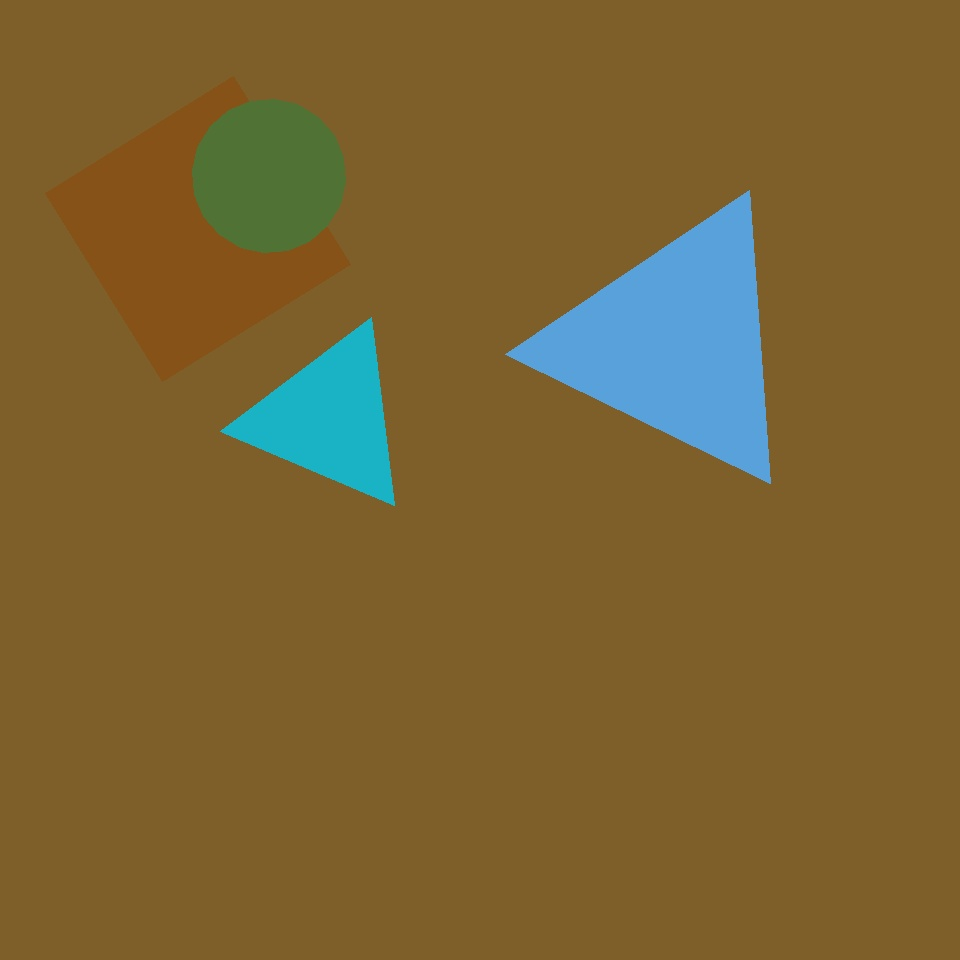circle: (542, 196, 808, 490), (242, 324, 416, 512), (594, 323, 708, 453)
square: (168, 579, 542, 953), (304, 45, 621, 362), (46, 77, 350, 382), (425, 373, 684, 633)
triangle: (192, 100, 346, 252)
